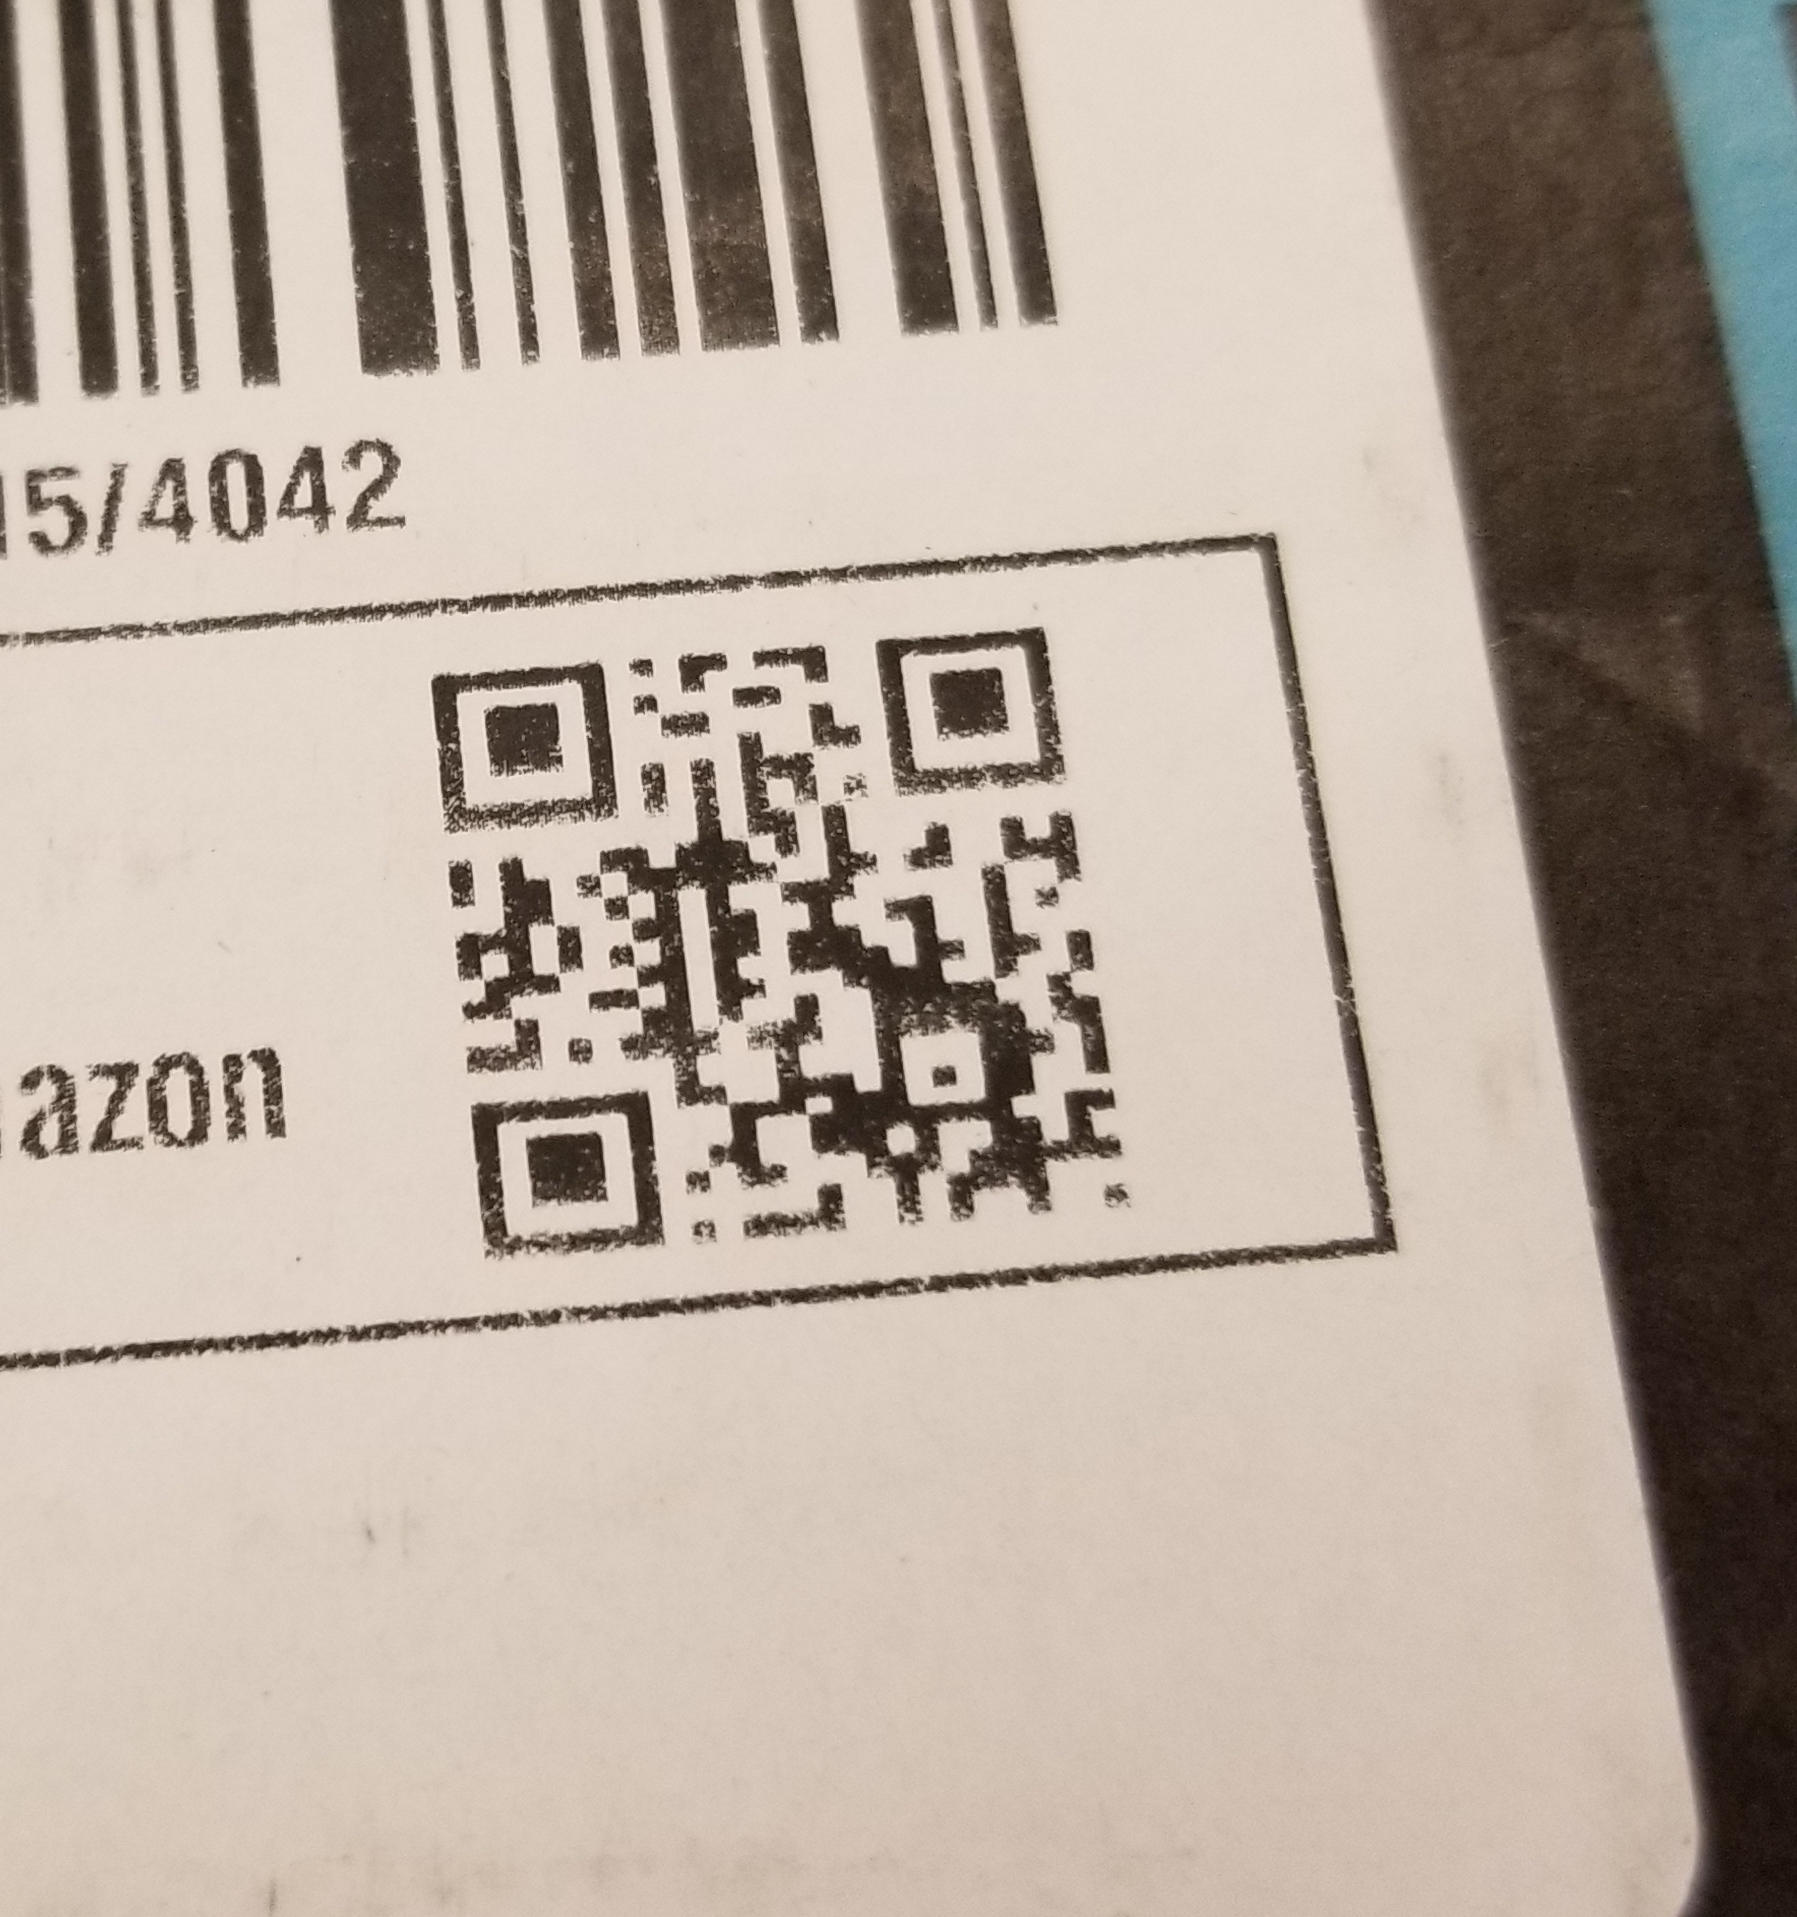QR_CODE: (400, 576, 1169, 1316)
